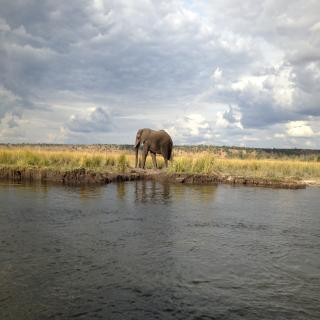Elephant: (131, 120, 181, 179)
